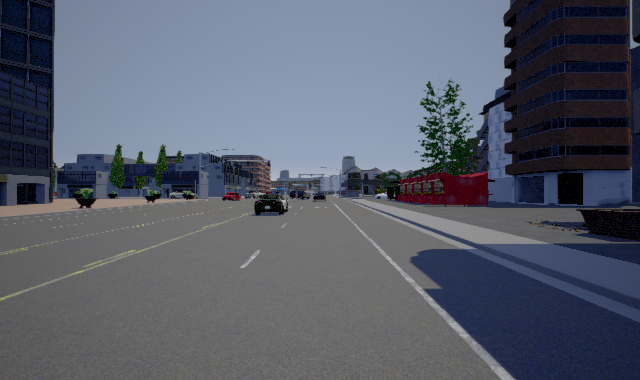vehicle: (253, 190, 288, 215), (289, 187, 311, 200), (221, 191, 241, 201), (311, 190, 326, 203)
